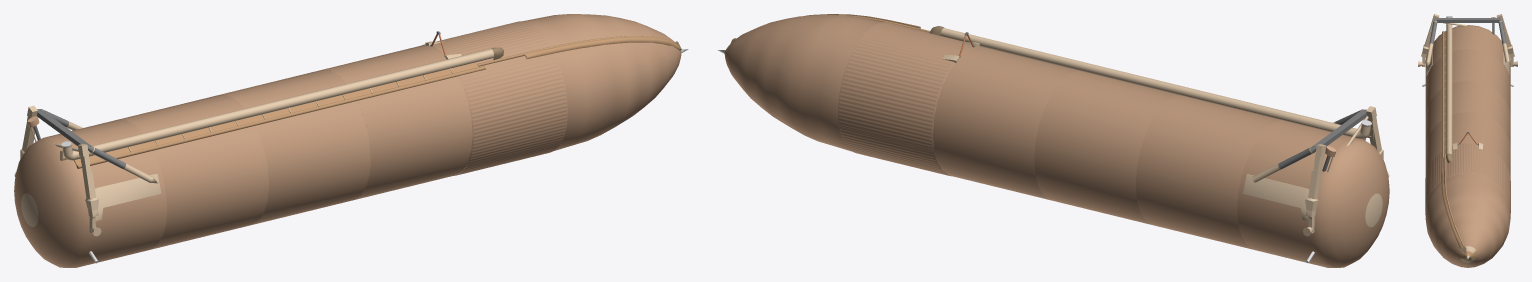
File: shuttle_et.glb
3 renders of one model, left to right at view 1: azimuth 30°, elevation 25°; view 2: azimuth 150°, elevation 25°; view 3: azimuth 270°, elevation 25°, orthographic. The views are drawn at different scales.
Visible parts, largest first — view 1: et_all.lay; view 2: et_all.lay; view 3: et_all.lay.
Part boxes in pixels (box(x1,y1,x2,y2)): et_all.lay: box(14, 14, 688, 267); et_all.lay: box(717, 14, 1389, 267); et_all.lay: box(1418, 14, 1517, 267).
Bounding box in the file's own units: 1880 × 380 × 388.
